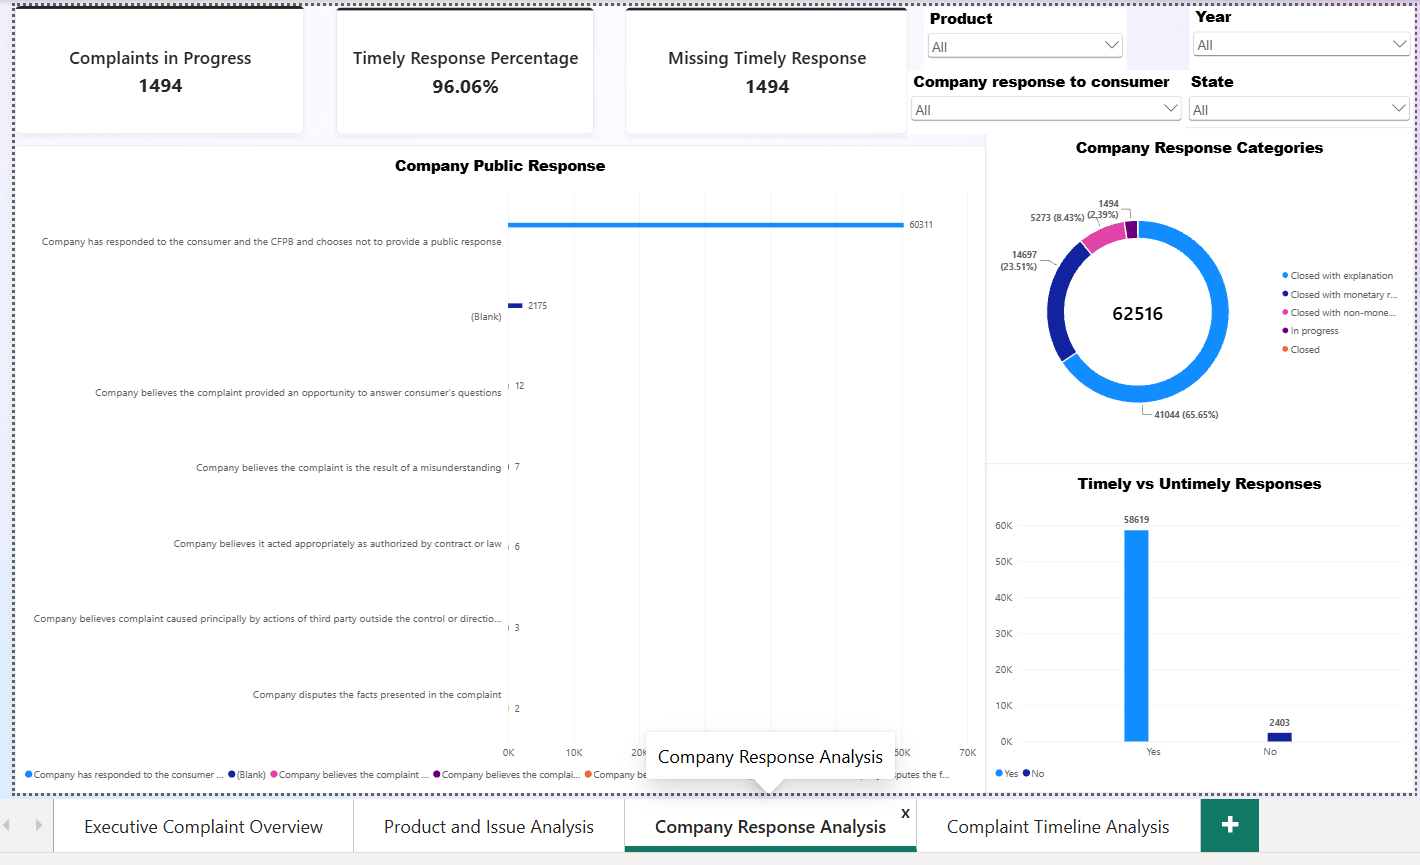

This screenshot's page, from the dashboard's own definition file:
{"tool":"powerbi","page":{"name":"Company Response Analysis","canvas":[1920,1080],"ordinal":2},"visuals":[{"type":"donutChart","title":"Company Response Categories","fields":{"Category":["Data.Company response to consumer"],"Y":["Data.Total Complaints"]},"box":[1332.1,166.3,588,462.3],"z":0},{"type":"clusteredColumnChart","title":"Timely vs Untimely Responses","fields":{"Category":["Data.Timely response?"],"Series":["Data.Timely response?"],"Y":["Data.Total Complaints"]},"box":[1332.1,628.5,588,452.1],"z":1000},{"type":"cardVisual","fields":{"Data":["Data.Complaints in Progress"]},"box":[0,0,397.4,176.4],"z":2000},{"type":"cardVisual","fields":{"Data":["Data.Timely Response Percentage"]},"box":[440,2,354.8,174.4],"z":3000},{"type":"clusteredBarChart","title":"Company Public Response ","fields":{"Category":["Data.Company public response"],"Series":["Data.Company public response"],"Y":["Data.Total Complaints"]},"box":[0,190.6,1332.1,890.1],"z":4000},{"type":"cardVisual","fields":{"Data":["Data.Missing Timely Response"]},"box":[837.4,2,387.3,174.4],"z":5000},{"type":"slicer","fields":{"Values":["Data.State"]},"box":[1605.8,89.2,313.4,77.2],"z":6000},{"type":"slicer","fields":{"Values":["Calendar.Year"]},"box":[1611.9,0,308.2,89.2],"z":7000},{"type":"slicer","fields":{"Values":["Data.Product"]},"box":[1247,2,277.8,87.2],"z":8000},{"type":"slicer","fields":{"Values":["Data.Company response to consumer"]},"box":[1224.7,89.2,381.2,87.2],"z":9000}]}

Visuals, with their boxes on the page's 1920x1080 design canvas (x1, y1, x2, y2). These are canvas units, not pixel positions in the 1420x865 screenshot, which may show the page scaled, cropped or inside an application window:
"Company Response Categories" donutChart: box(1332, 166, 1920, 629)
"Timely vs Untimely Responses" clusteredColumnChart: box(1332, 628, 1920, 1081)
cardVisual - Data.Complaints in Progress: box(0, 0, 397, 176)
cardVisual - Data.Timely Response Percentage: box(440, 2, 795, 176)
"Company Public Response " clusteredBarChart: box(0, 191, 1332, 1081)
cardVisual - Data.Missing Timely Response: box(837, 2, 1225, 176)
slicer - Data.State: box(1606, 89, 1919, 166)
slicer - Calendar.Year: box(1612, 0, 1920, 89)
slicer - Data.Product: box(1247, 2, 1525, 89)
slicer - Data.Company response to consumer: box(1225, 89, 1606, 176)
